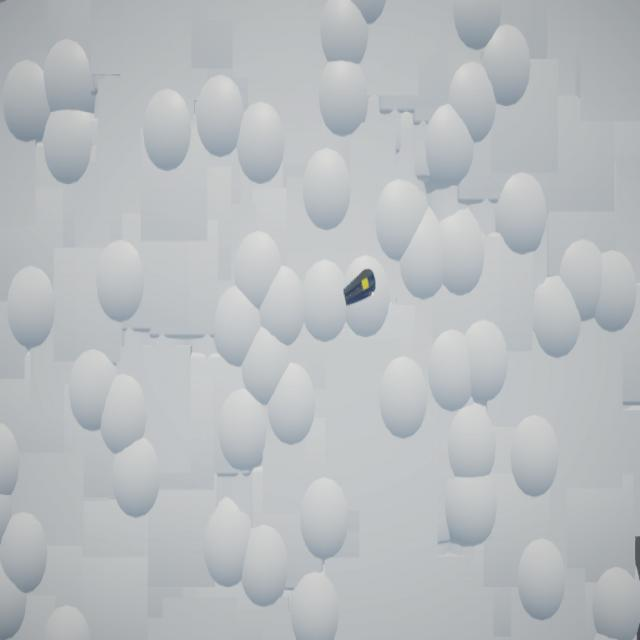handle_folk: (344, 270, 377, 307)
